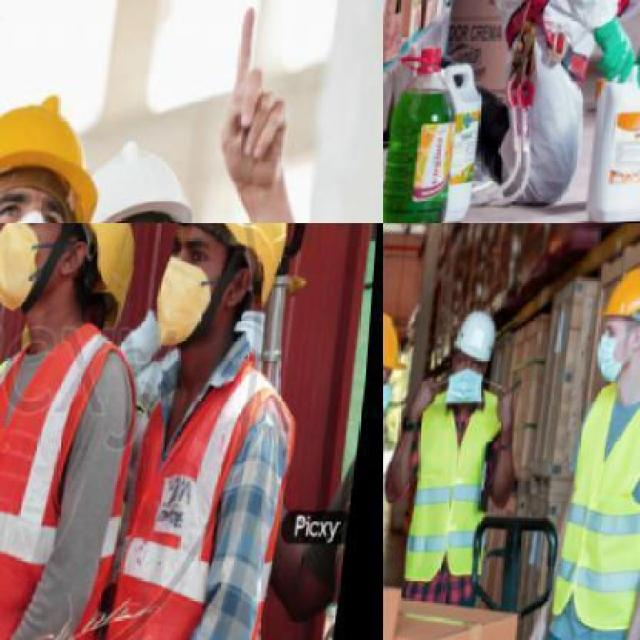Vest: (117, 362, 301, 638), (0, 316, 145, 638), (554, 386, 638, 639), (410, 392, 512, 580)
